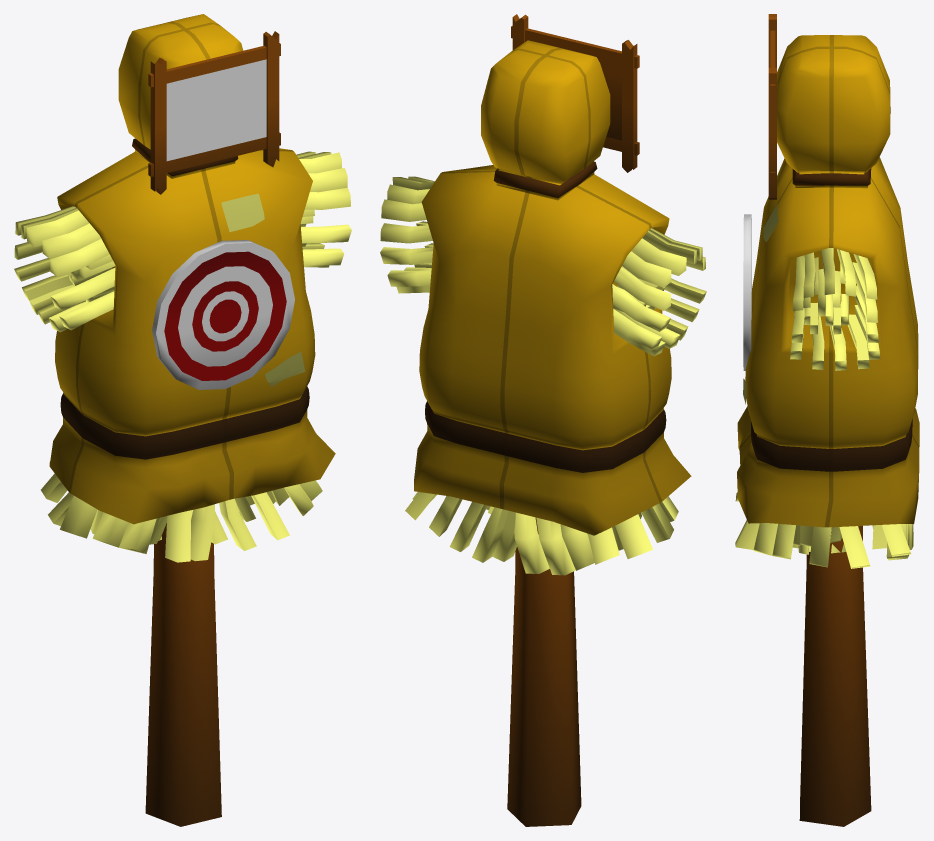
The model's file is muñecocartel cabeza.fbx.
The picture shows the model from 3 angles, left to right: view 1: azimuth 30°, elevation 25°; view 2: azimuth 150°, elevation 25°; view 3: azimuth 270°, elevation 25°; orthographic projection. The views are drawn at different scales.
Parts seen in each view (by area): view 1: Cube.753, Cube.009, Cube.007, Cube.004, Cube.010, Cube.012, Cube.011, Cube.006, Cube.008; view 2: Cube.753, Cube.009, Cube.010, Cube.012, Cube.004, Cube.011; view 3: Cube.753, Cube.009, Cube.011, Cube.010, Cube.004, Cube.007.
Boxes of the visible parts, x1,y1,x2,y2 form: Cube.753: (49, 14, 335, 524); Cube.009: (145, 523, 221, 826); Cube.007: (152, 240, 294, 389); Cube.004: (148, 31, 280, 194); Cube.010: (41, 473, 322, 562); Cube.012: (14, 206, 115, 332); Cube.011: (296, 151, 351, 267); Cube.006: (221, 193, 264, 231); Cube.008: (265, 352, 305, 386); Cube.753: (414, 40, 691, 535); Cube.009: (507, 517, 581, 826); Cube.010: (405, 492, 678, 575); Cube.012: (612, 228, 706, 356); Cube.004: (511, 14, 639, 172); Cube.011: (380, 176, 434, 293); Cube.753: (737, 35, 919, 527); Cube.009: (799, 526, 871, 826); Cube.011: (790, 248, 880, 370); Cube.010: (735, 492, 913, 568); Cube.004: (768, 14, 776, 199); Cube.007: (743, 214, 751, 370).
Size of the model in its own units: 174 by 418 by 91.03.
3 materials, 2 textured.
